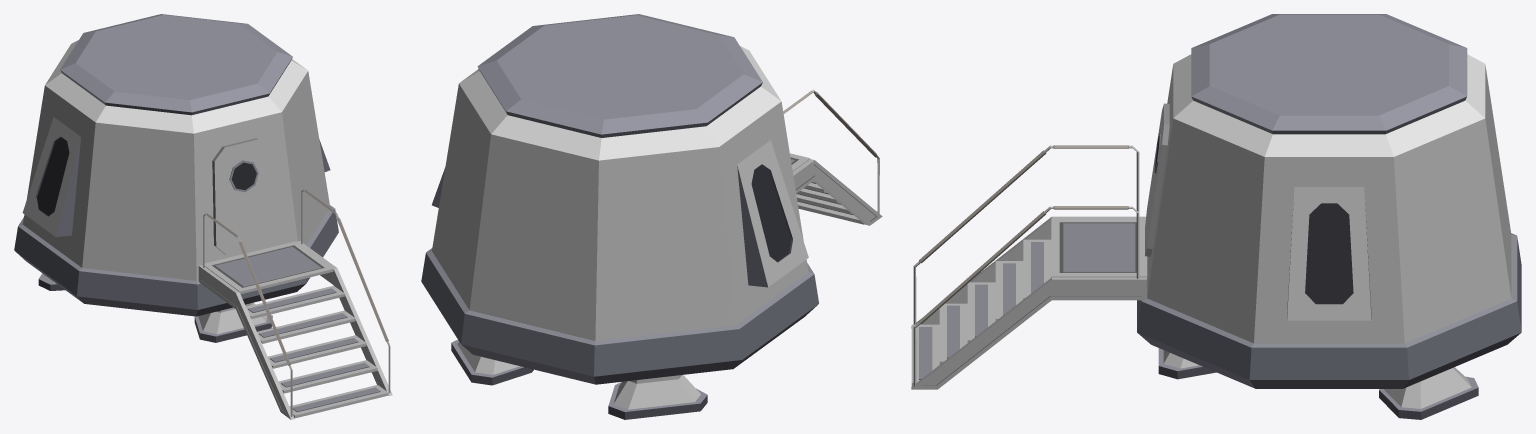
Rendered from SpaceRoom_01.glb.
3 views of the same model, side by side, from view 1: azimuth 30°, elevation 25°; view 2: azimuth 150°, elevation 25°; view 3: azimuth 270°, elevation 25° (orthographic). The views are drawn at different scales.
Visible parts, largest first — view 1: SpaceRoom_01; view 2: SpaceRoom_01; view 3: SpaceRoom_01.
Part boxes in pixels (x1,y1,x2,y2): SpaceRoom_01: (14,14,392,419); SpaceRoom_01: (421,14,882,419); SpaceRoom_01: (911,14,1521,419).
Size of what is drawn, in the model's own units: 2.03 by 1.63 by 3.08.
Materials: 1 (1 with a texture image).
